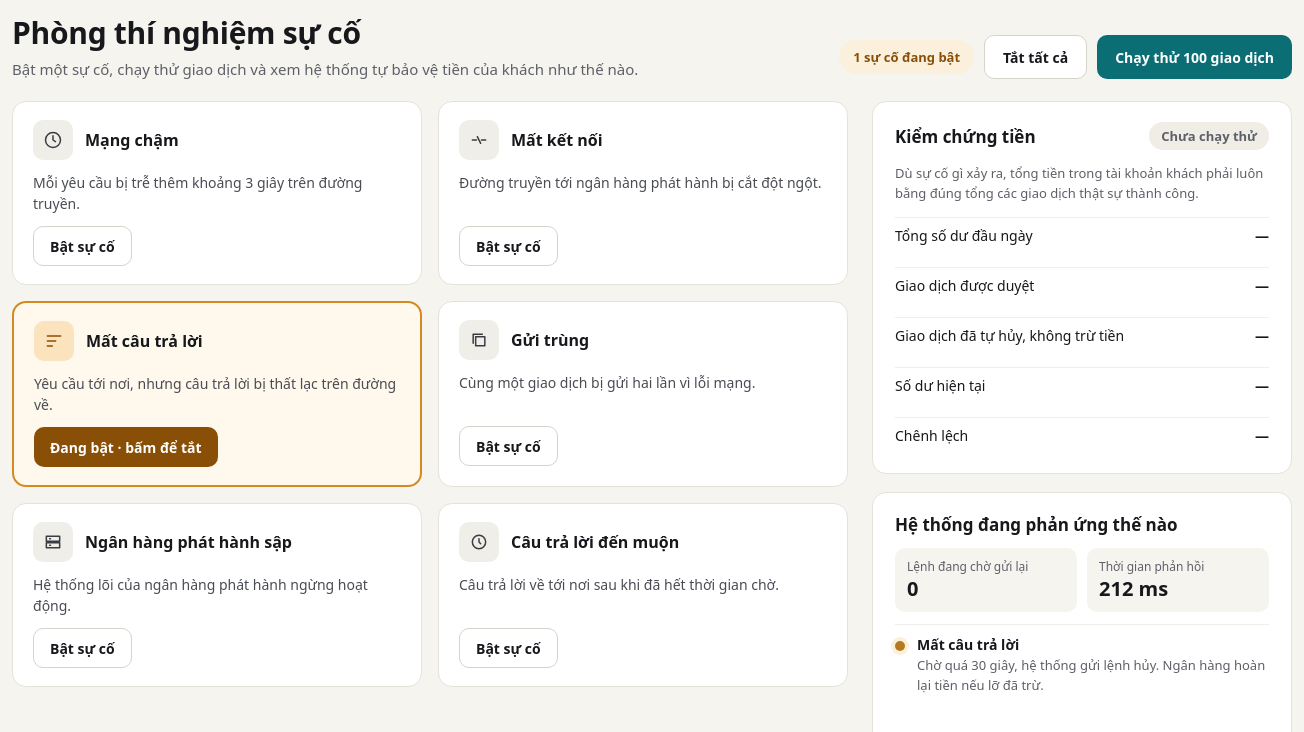
Test: ChaosLabScreen › runs 100 test transactions and flashes the zero discrepancy when the run passes __MCN_405_AC2
Expected: the text "1 sự cố đang bật" is shown, [839,40,974,74]
Click the button "Chạy thử 100 giao dịch" at coordinates (1195, 57), box [1097,35,1292,79]
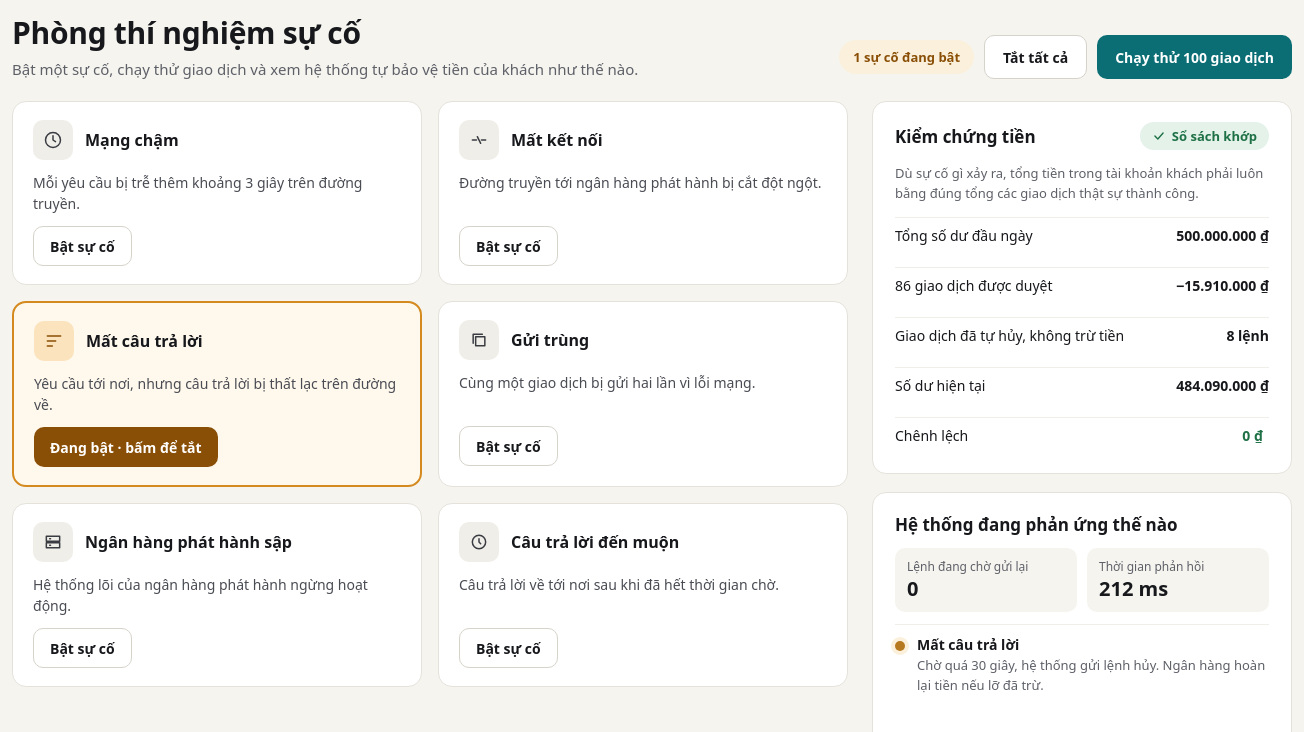
Expected: the text "86 giao dịch được duyệt" is shown, [895,276,1052,295]
